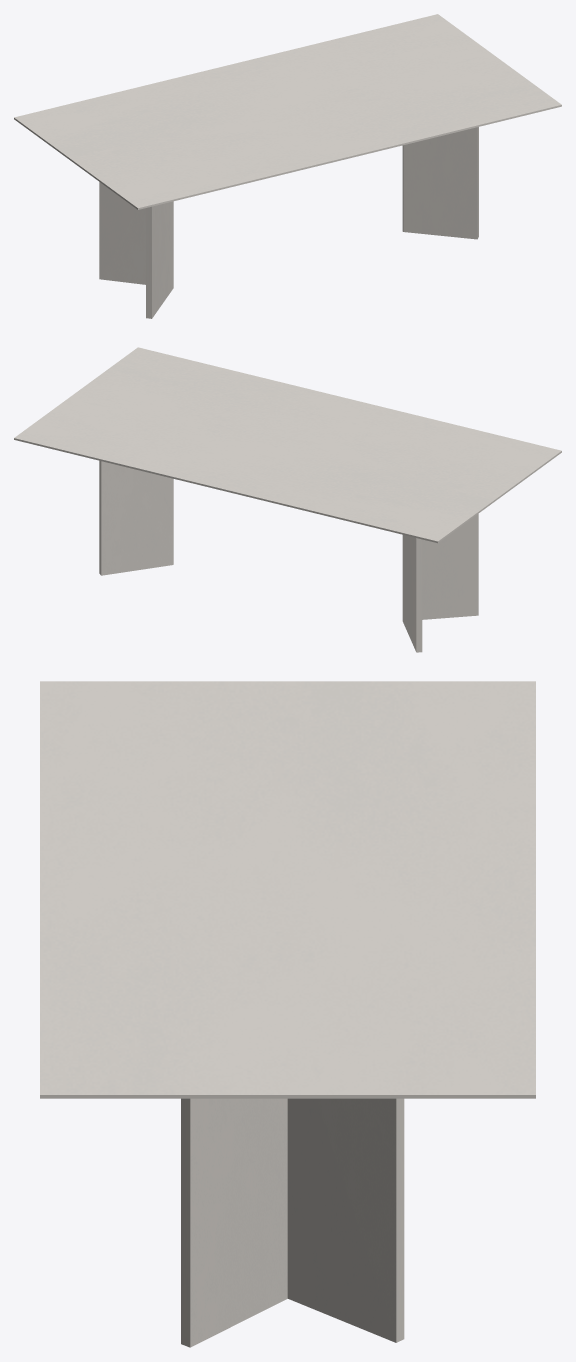
File: pearlwhite_recta_facet_valleyv.glb
The picture shows the model from 3 angles, top to bottom: view 1: azimuth 30°, elevation 25°; view 2: azimuth 150°, elevation 25°; view 3: azimuth 270°, elevation 25°; orthographic projection. The views are drawn at different scales.
Parts seen in each view (by area): view 1: facet_recta, valleyv; view 2: facet_recta, valleyv; view 3: facet_recta, valleyv.
Part boxes in pixels (<box>): facet_recta: <box>14,14,561,209</box>; valleyv: <box>99,127,478,318</box>; facet_recta: <box>14,347,561,543</box>; valleyv: <box>99,460,478,652</box>; facet_recta: <box>40,681,535,1098</box>; valleyv: <box>181,1098,404,1347</box>.
Size of the model in its own units: 7.5 by 2.51 by 3.8.
1 material, 1 textured.
